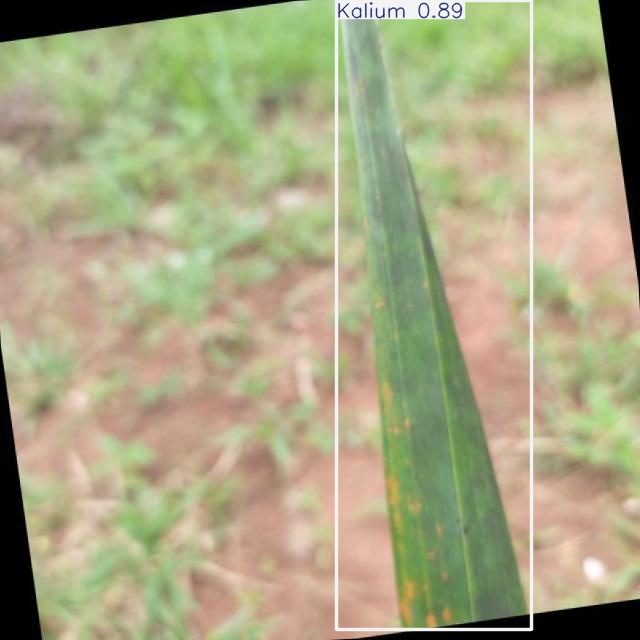Kalium: (337, 0, 532, 630)
